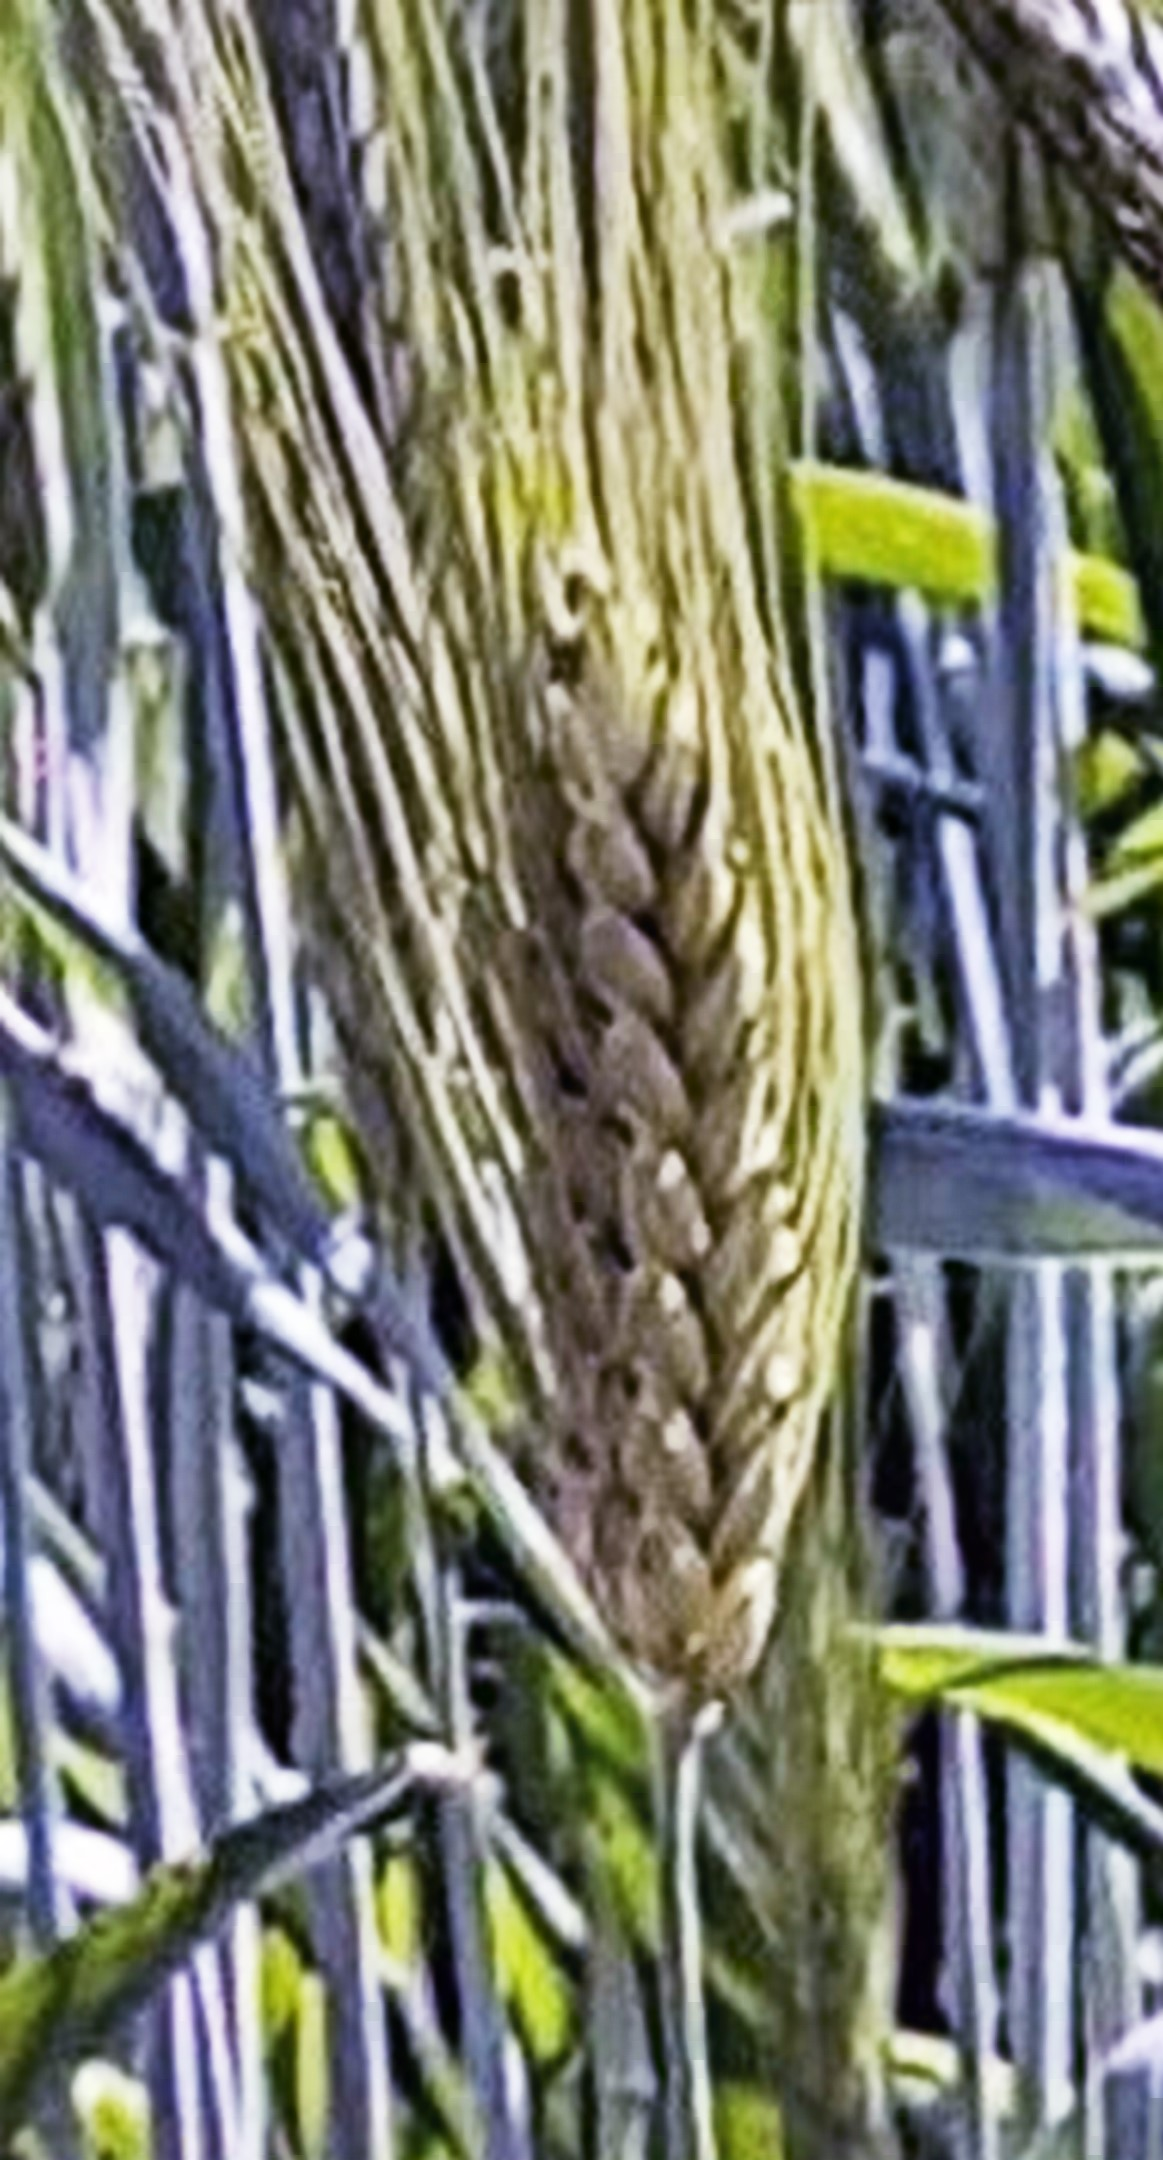Healthy Wheat: (483, 577, 889, 1652)
